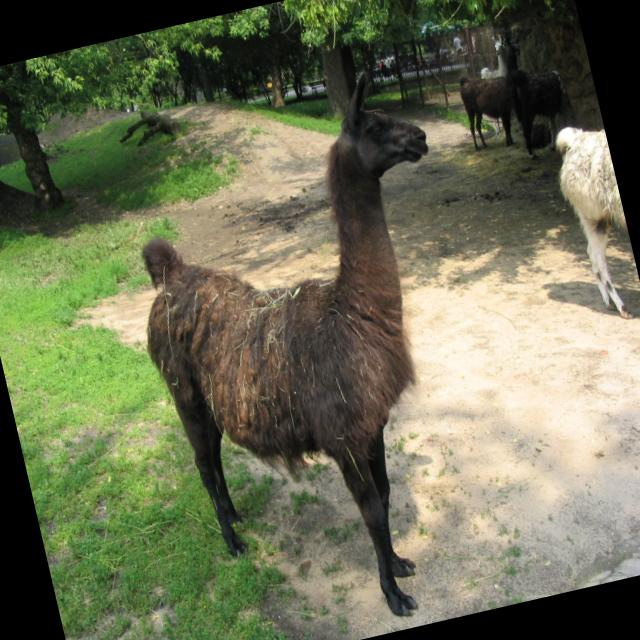alpaca: (99, 60, 530, 640), (549, 120, 640, 325), (448, 31, 536, 153)
